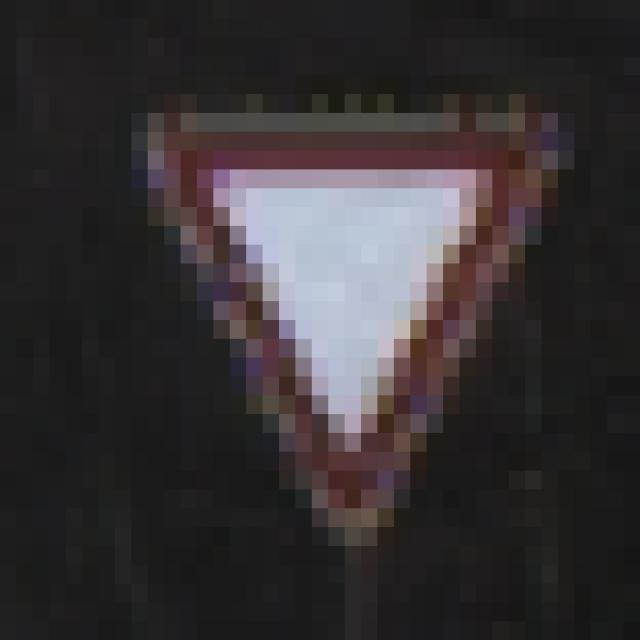Give Way: (99, 95, 559, 547)
